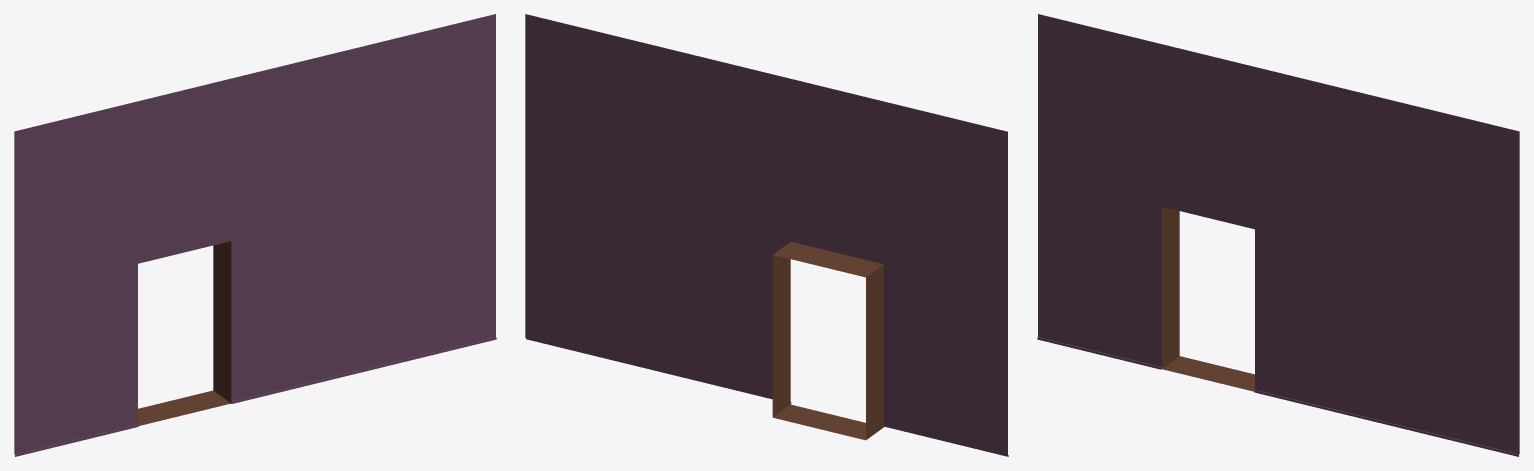
The model's file is Tile11_fix 2.fbx.
3 renders of one model, left to right at view 1: azimuth 30°, elevation 25°; view 2: azimuth 150°, elevation 25°; view 3: azimuth 330°, elevation 25°, orthographic.
Visible parts, largest first — view 1: Tile11; view 2: Tile11; view 3: Tile11.
Part boxes in pixels (x1,y1,x2,y2): Tile11: (14, 14, 496, 456); Tile11: (525, 14, 1008, 456); Tile11: (1037, 14, 1519, 456).
Bounding box in the file's own units: 775 × 500 × 51.99.
